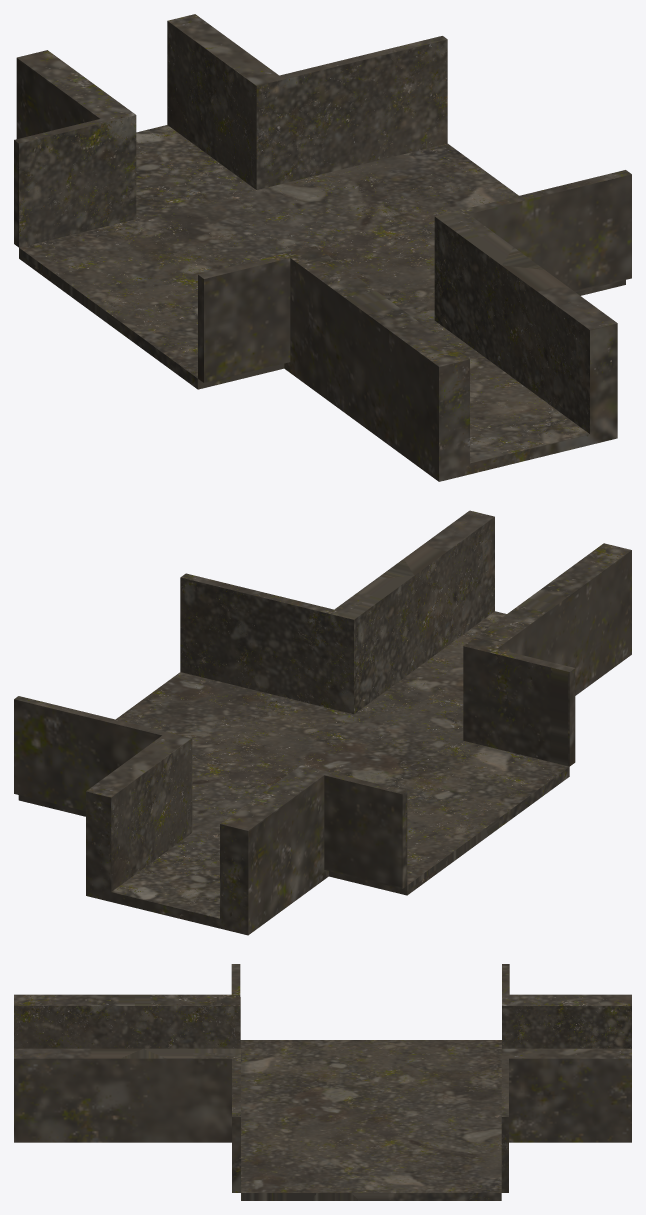
File: Room2.fbx
3 renders of one model, top to bottom at view 1: azimuth 30°, elevation 25°; view 2: azimuth 150°, elevation 25°; view 3: azimuth 270°, elevation 25°, orthographic. The views are drawn at different scales.
Parts seen in each view (by area): view 1: polySurface12; view 2: polySurface12; view 3: polySurface12.
Part boxes in pixels (x1,y1,x2,y2): polySurface12: (14,14,631,481); polySurface12: (14,510,631,935); polySurface12: (14,964,631,1200).
Size of the model in its own units: 2019 by 518 by 3450.
Materials: 1 (1 with a texture image).
